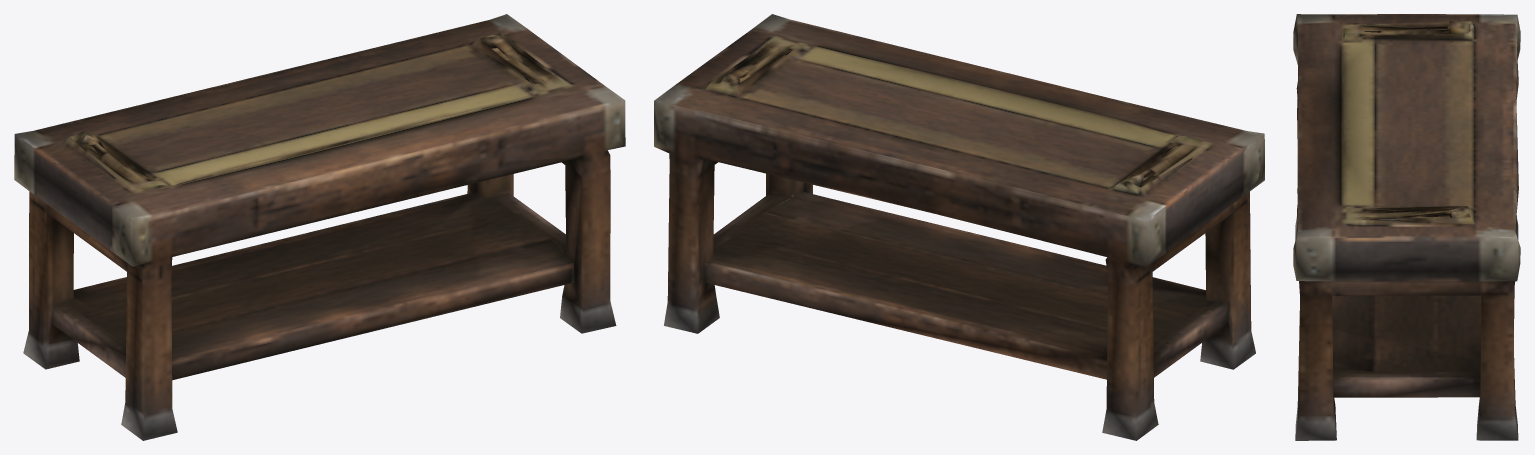
Rendered from SurveyWorkbench_LOD2.fbx.
3 renders of one model, left to right at view 1: azimuth 30°, elevation 25°; view 2: azimuth 150°, elevation 25°; view 3: azimuth 270°, elevation 25°, orthographic. The views are drawn at different scales.
Visible parts, largest first — view 1: SurveyWorkbench_LOD2; view 2: SurveyWorkbench_LOD2; view 3: SurveyWorkbench_LOD2.
Part boxes in pixels (box(x1,y1,x2,y2)): SurveyWorkbench_LOD2: box(14, 14, 625, 440); SurveyWorkbench_LOD2: box(654, 14, 1264, 440); SurveyWorkbench_LOD2: box(1293, 14, 1520, 440).
Bounding box in the file's own units: 2 × 0.8991 × 0.8499.
